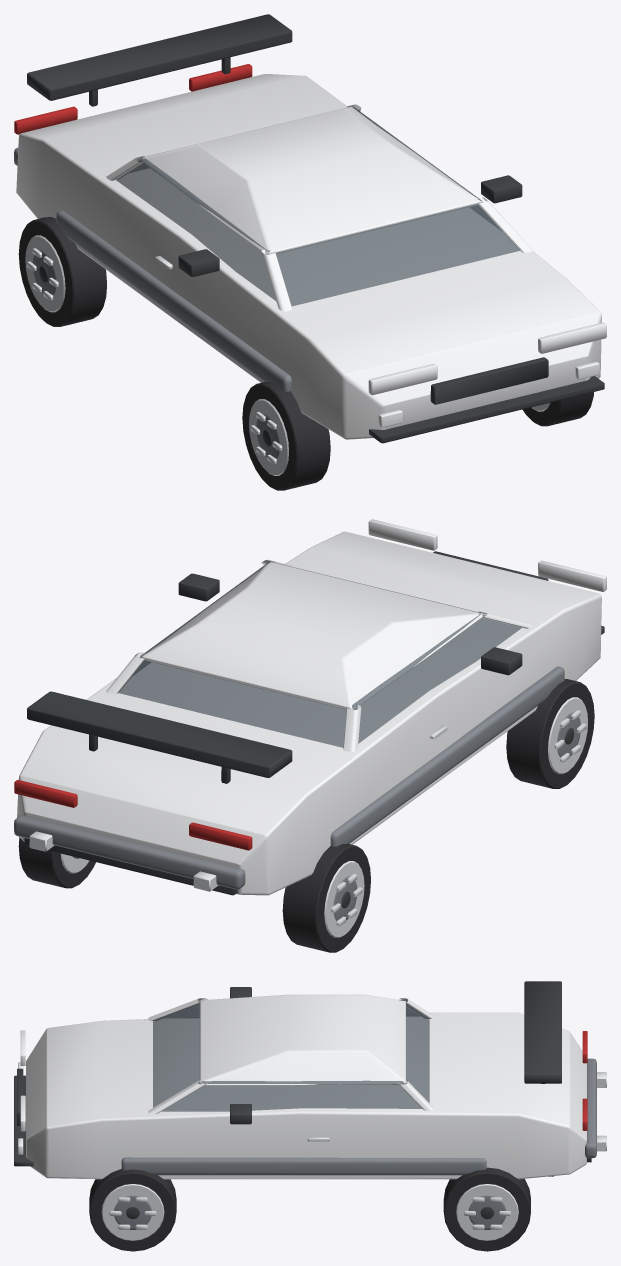
The model's file is nova-xr.glb.
3 views of the same model, one above another, from view 1: azimuth 30°, elevation 25°; view 2: azimuth 150°, elevation 25°; view 3: azimuth 270°, elevation 25° (orthographic). The views are drawn at different scales.
Parts seen in each view (by area): view 1: paint, glass, trim, tyre, accent, rim, head, tail; view 2: paint, glass, trim, accent, tyre, rim, head, tail; view 3: paint, glass, accent, tyre, trim, rim, head, tail.
Boxes of the visible parts, x1=… form: paint: x1=16, y1=74, x2=601, y2=439; glass: x1=116, y1=107, x2=519, y2=306; trim: x1=27, y1=14, x2=604, y2=446; tyre: x1=18, y1=217, x2=593, y2=490; accent: x1=14, y1=147, x2=291, y2=458; rim: x1=25, y1=235, x2=550, y2=475; head: x1=368, y1=322, x2=606, y2=427; tail: x1=14, y1=64, x2=252, y2=134; paint: x1=17, y1=531, x2=601, y2=895; glass: x1=118, y1=562, x2=521, y2=747; trim: x1=24, y1=551, x2=604, y2=908; accent: x1=14, y1=666, x2=580, y2=920; tyre: x1=18, y1=679, x2=594, y2=952; rim: x1=29, y1=697, x2=587, y2=937; head: x1=368, y1=519, x2=606, y2=591; tail: x1=14, y1=780, x2=252, y2=850; paint: x1=26, y1=994, x2=586, y2=1179; glass: x1=153, y1=1000, x2=429, y2=1111; accent: x1=114, y1=1058, x2=596, y2=1229; tyre: x1=89, y1=1167, x2=530, y2=1251; trim: x1=14, y1=981, x2=591, y2=1219; rim: x1=101, y1=1072, x2=606, y2=1240; head: x1=18, y1=1030, x2=25, y2=1154; tail: x1=582, y1=1031, x2=587, y2=1130.
Size of the model in its own units: 2.5 by 1.56 by 4.89.
